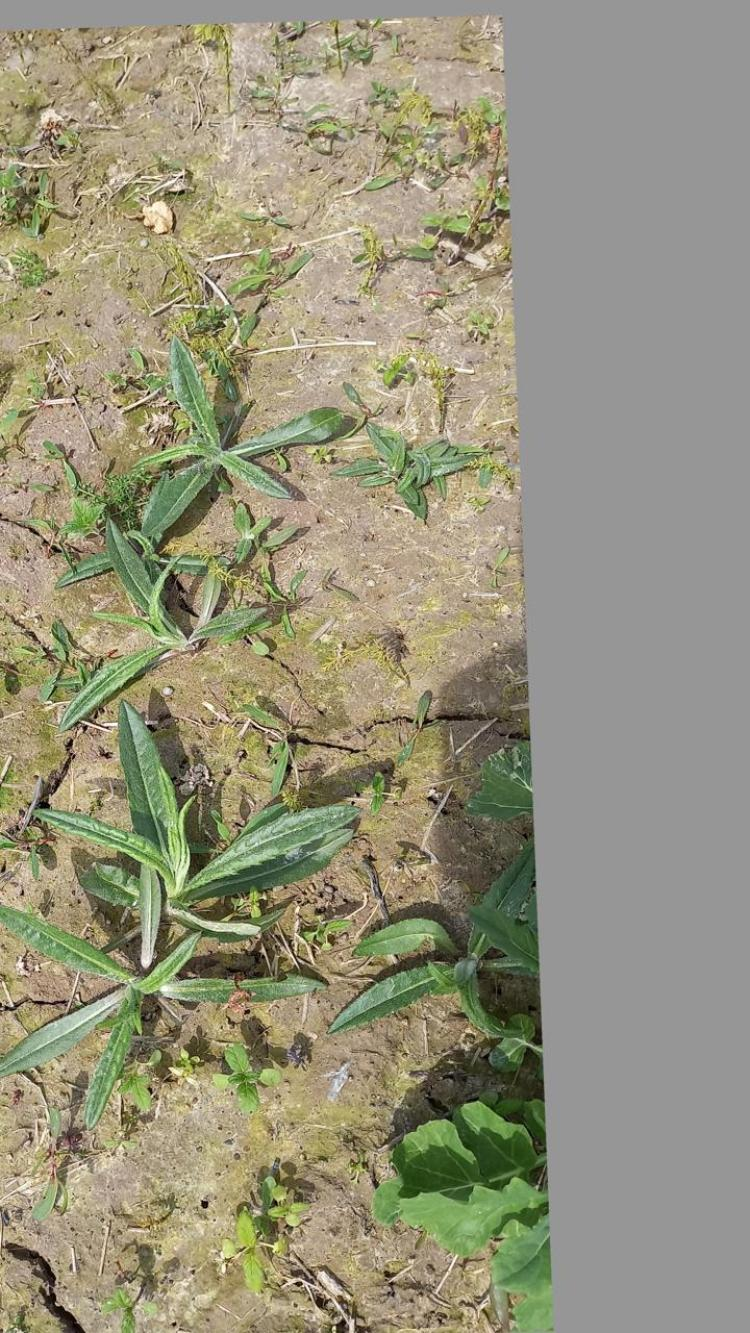osot: (0, 870, 342, 1146), (27, 704, 348, 950), (35, 525, 288, 733), (121, 350, 356, 541)
